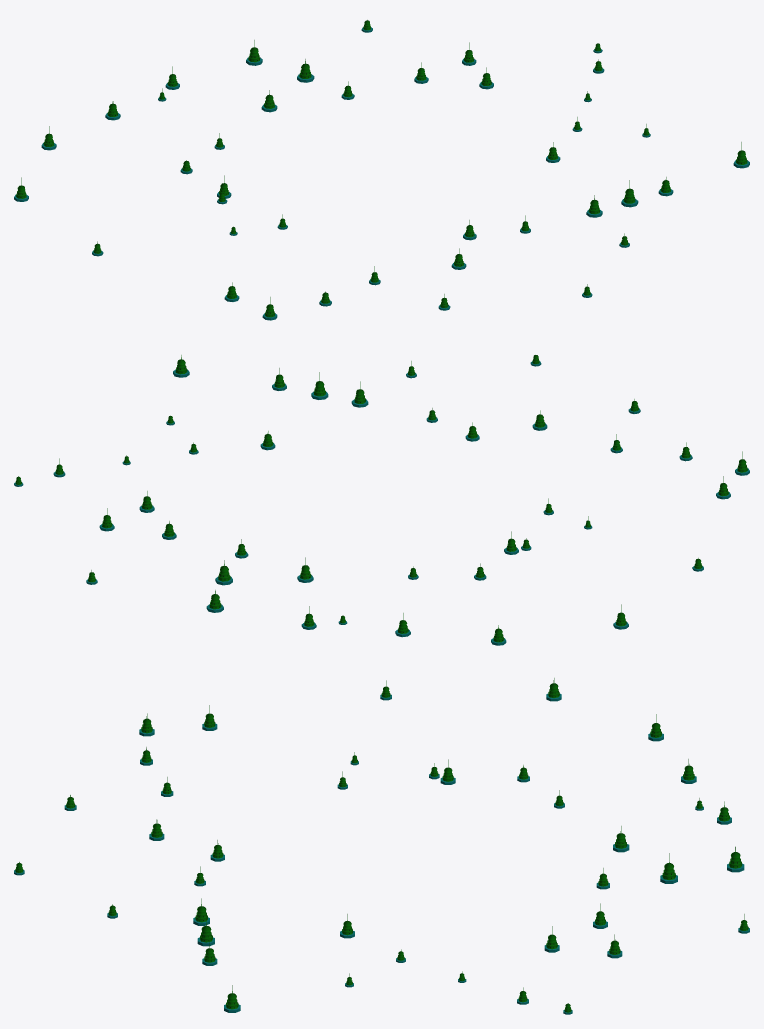
File: ansedra_far_domes_lit.glb
3 views of the same model, one above another, from view 1: azimuth 30°, elevation 25°; view 2: azimuth 150°, elevation 25°; view 3: azimuth 270°, elevation 25° (orthographic). The views are drawn at different scales.
Parts seen in each view (by area): view 1: ansedra_far_domes_lit; view 2: ansedra_far_domes_lit; view 3: ansedra_far_domes_lit.
Boxes of the visible parts, x1=… form: ansedra_far_domes_lit: x1=14, y1=20, x2=749, y2=320; ansedra_far_domes_lit: x1=14, y1=355, x2=749, y2=645; ansedra_far_domes_lit: x1=14, y1=678, x2=749, y2=1014.
Size of what is drawn, in the model's own units: 1306 by 51.99 by 1267.
